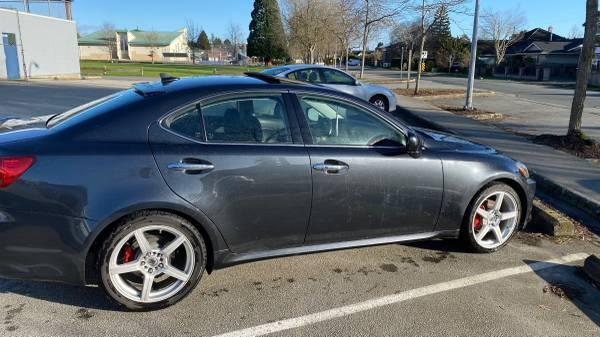Front_Fender: (435, 147, 534, 235)
Front_Right_Door: (303, 146, 443, 253)
Front_Right_Window: (285, 92, 425, 146)
Rear_Bumper: (1, 205, 102, 292)
Rear_Fender: (0, 127, 178, 222)
Rear_Right_Door: (150, 127, 312, 267)
Rear_Right_Window: (158, 89, 301, 147)
Right_Taillight: (0, 156, 32, 189)
Roof: (53, 73, 437, 149)
Wheel: (99, 212, 207, 312), (466, 183, 522, 251)
